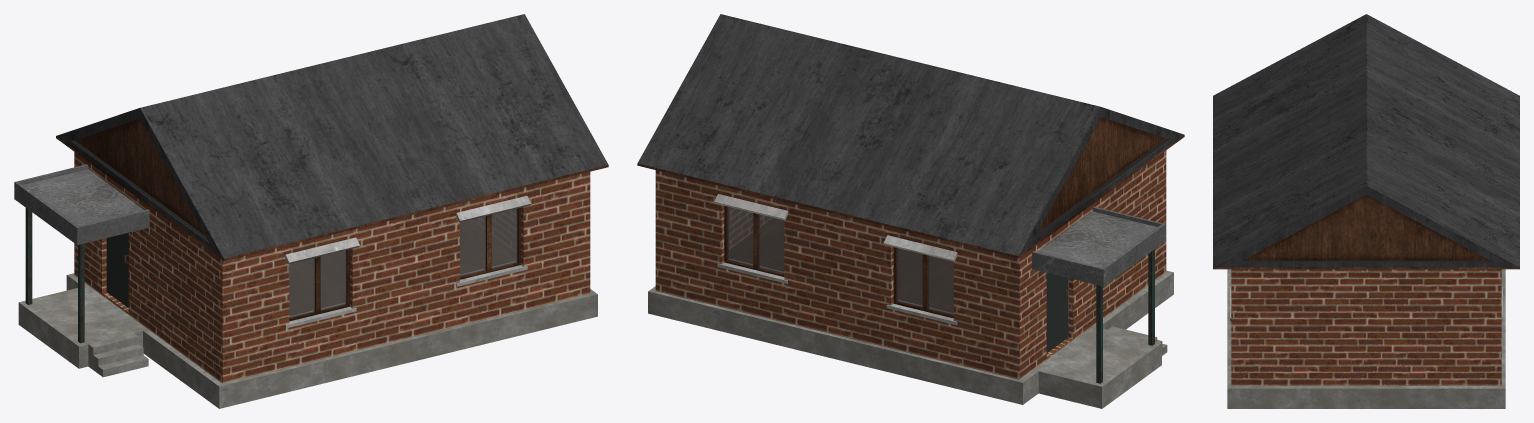
The model's file is brick.glb.
3 views of the same model, side by side, from view 1: azimuth 30°, elevation 25°; view 2: azimuth 150°, elevation 25°; view 3: azimuth 270°, elevation 25° (orthographic). The views are drawn at different scales.
Parts seen in each view (by area): view 1: House; view 2: House; view 3: House.
Part boxes in pixels (left/top/right/bottom): House: left=14, top=14, right=608, bottom=408; House: left=637, top=14, right=1184, bottom=408; House: left=1213, top=14, right=1519, bottom=408.
Bounding box in the file's own units: 9.54 × 5 × 6.18.
7 materials, 7 textured.
